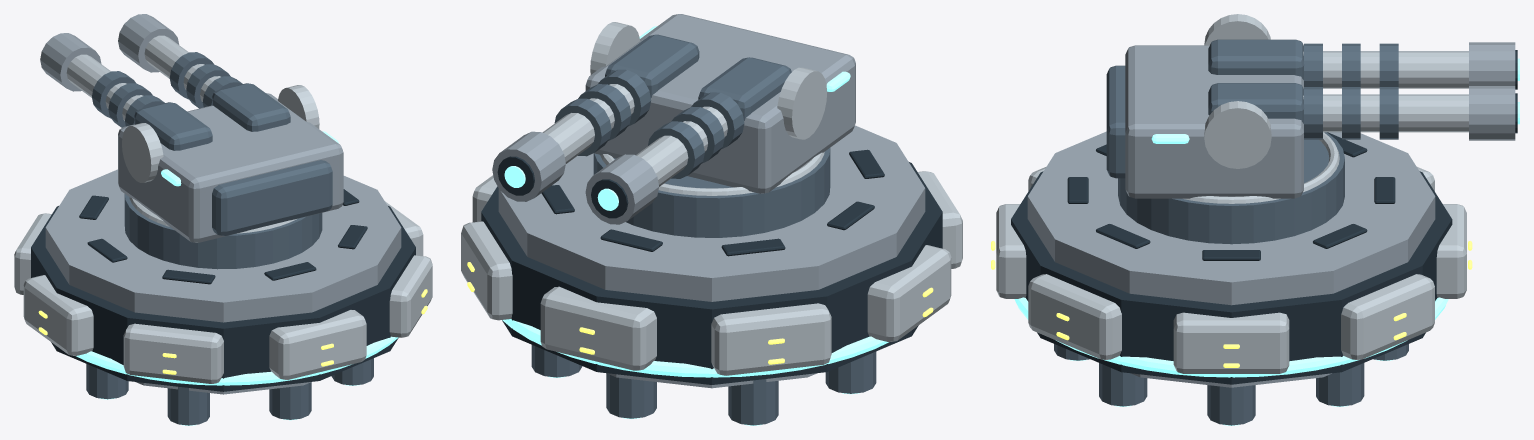
The model's file is FloatingBattery.fbx.
3 views of the same model, side by side, from view 1: azimuth 30°, elevation 25°; view 2: azimuth 150°, elevation 25°; view 3: azimuth 270°, elevation 25° (orthographic). The views are drawn at different scales.
Visible parts, largest first — view 1: PlatformMesh, TurretMesh, BarrelsMesh; view 2: PlatformMesh, BarrelsMesh, TurretMesh; view 3: PlatformMesh, TurretMesh, BarrelsMesh.
Part boxes in pixels (<box>): PlatformMesh: <box>14,169,432,425</box>; TurretMesh: <box>118,85,343,242</box>; BarrelsMesh: <box>40,14,290,150</box>; PlatformMesh: <box>461,125,962,425</box>; BarrelsMesh: <box>492,34,791,224</box>; TurretMesh: <box>585,14,855,193</box>; PlatformMesh: <box>991,131,1472,425</box>; TurretMesh: <box>1106,14,1303,198</box>; BarrelsMesh: <box>1208,39,1519,140</box>.
Bounding box in the file's own units: 229 × 154 × 252.
